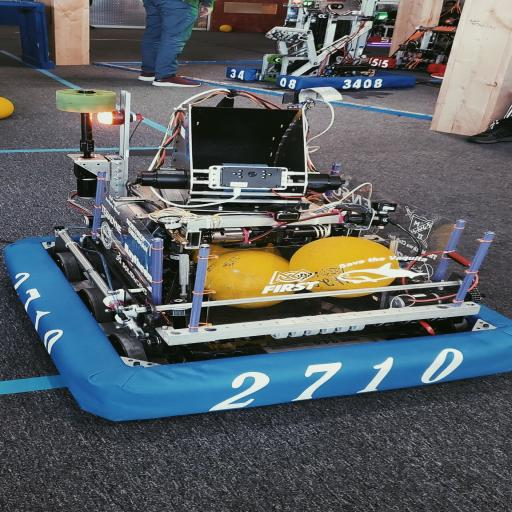robot: (18, 79, 508, 400), (220, 2, 430, 94)
